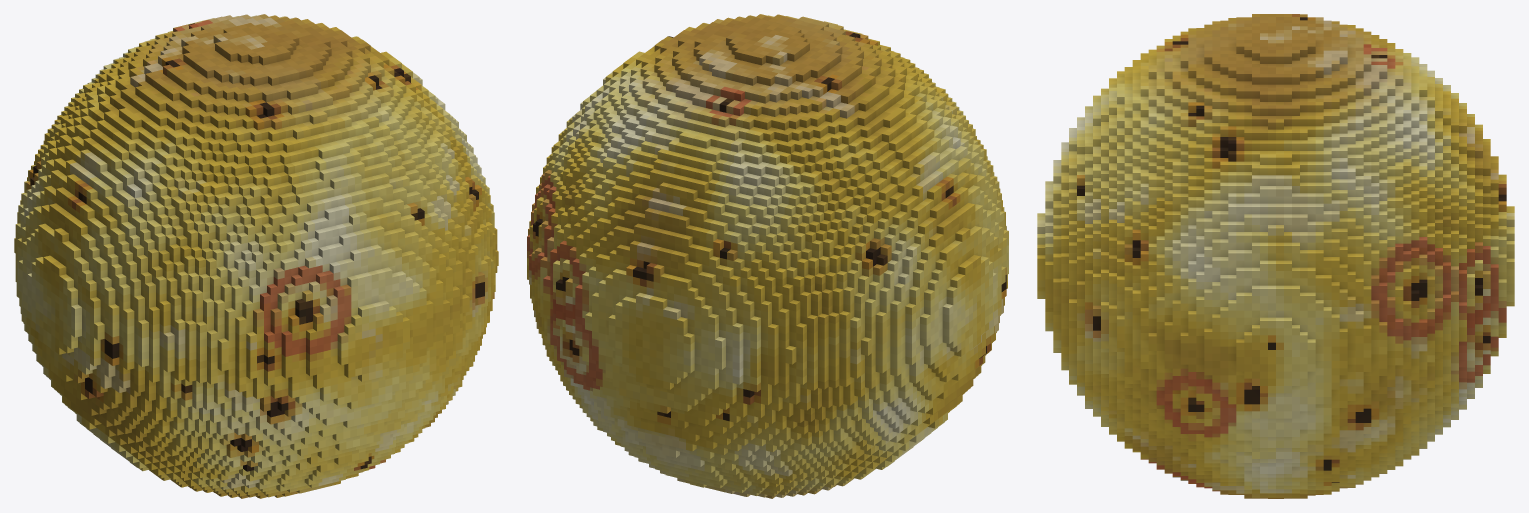
The picture shows the model from 3 angles, left to right: view 1: azimuth 30°, elevation 25°; view 2: azimuth 150°, elevation 25°; view 3: azimuth 270°, elevation 25°; orthographic projection.
Visible parts, largest first — view 1: io_lod0; view 2: io_lod0; view 3: io_lod0.
Part boxes in pixels (<box>): io_lod0: <box>14,14,498,498</box>; io_lod0: <box>527,14,1008,498</box>; io_lod0: <box>1037,14,1514,498</box>.
Bounding box in the file's own units: 2 × 2 × 2.
